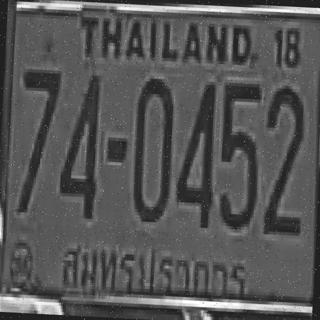N00: (130, 75, 175, 220)
N02: (261, 82, 306, 233)
N04: (57, 71, 101, 216), (174, 78, 217, 224)
N05: (216, 79, 261, 227)
N07: (16, 66, 60, 214)
P57: (55, 235, 254, 301)
